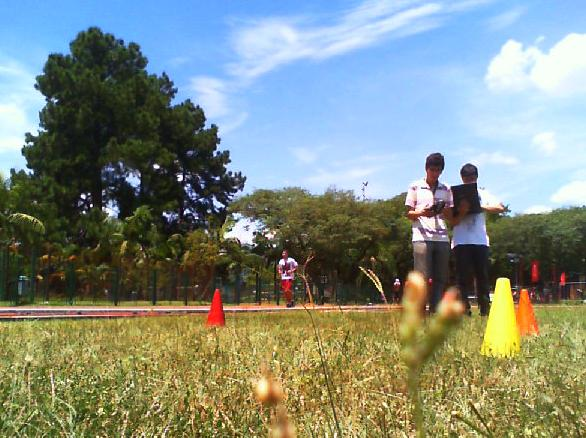0 cone: (479, 278, 520, 357), (514, 289, 540, 337), (204, 289, 228, 328)
